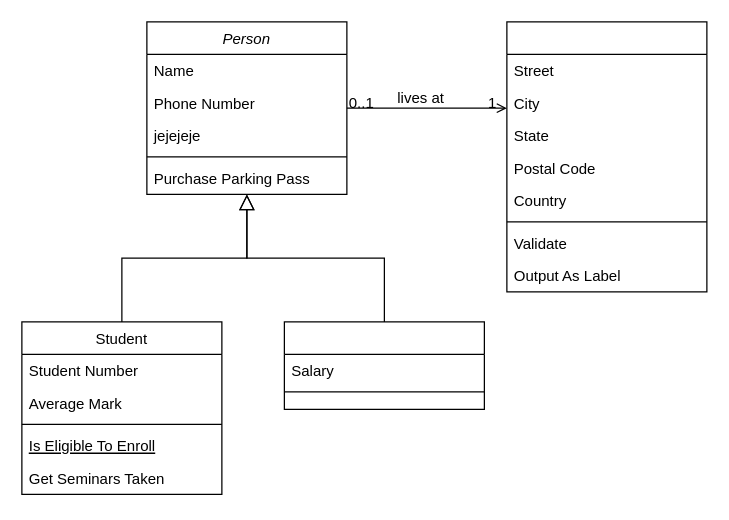
Some shapes in this 729 by 520 pixel diagram are drawn without their labels. Each missing label, with the box of its shape:
Address: (506, 21, 707, 292)
Professor: (283, 321, 484, 409)
